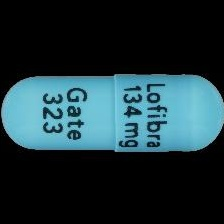57844-323: (0, 0, 224, 224)
